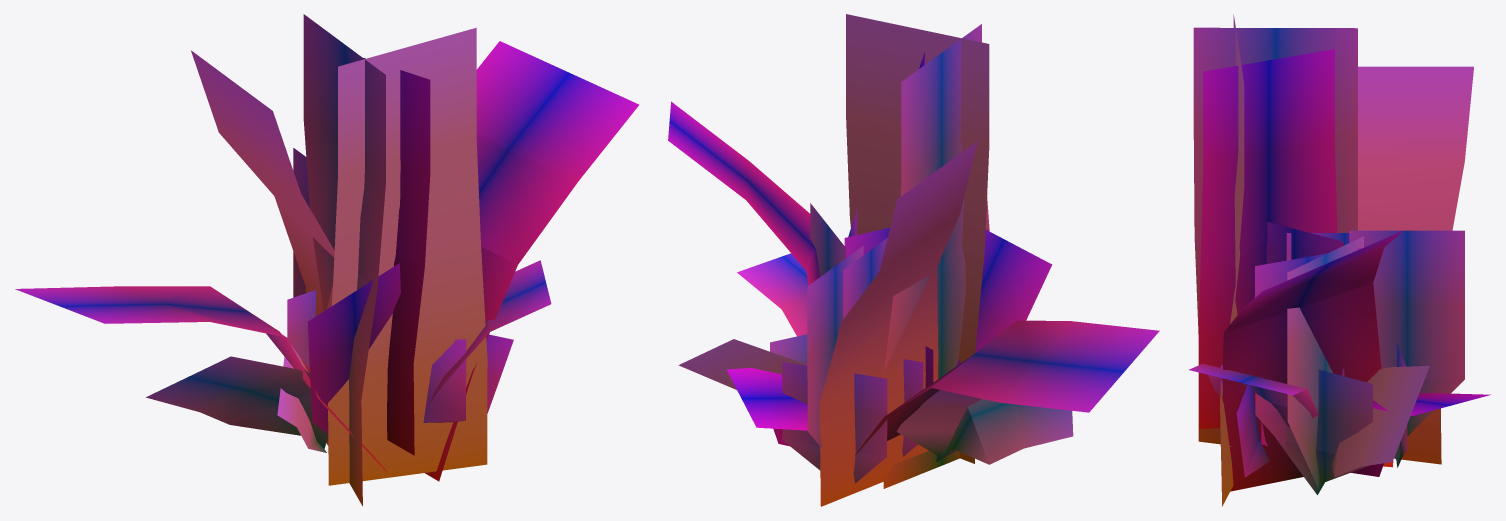
Rendered from fine_filbert_03_3.fbx.
The picture shows the model from 3 angles, left to right: view 1: azimuth 30°, elevation 25°; view 2: azimuth 150°, elevation 25°; view 3: azimuth 270°, elevation 25°; orthographic projection. The views are drawn at different scales.
Parts seen in each view (by area): view 1: fine_filbert_03_3_lod_0; view 2: fine_filbert_03_3_lod_0; view 3: fine_filbert_03_3_lod_0.
Boxes of the visible parts, box(x1,y1,x2,y2) form: fine_filbert_03_3_lod_0: box(15, 14, 639, 506); fine_filbert_03_3_lod_0: box(668, 14, 1159, 506); fine_filbert_03_3_lod_0: box(1189, 14, 1490, 506).
Size of what is drawn, in the model's own units: 0.732 by 0.3671 by 0.5759.
